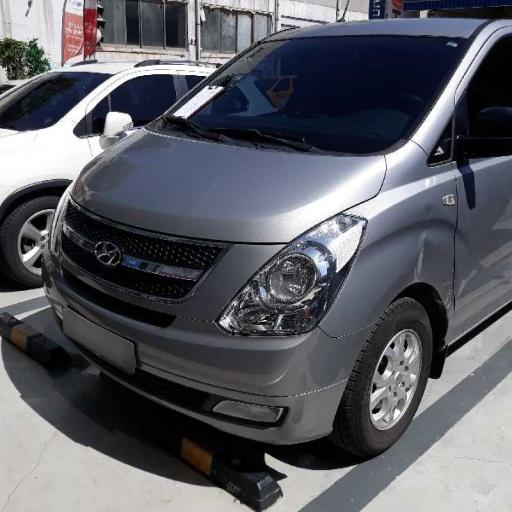scratch: (400, 218, 475, 315)
